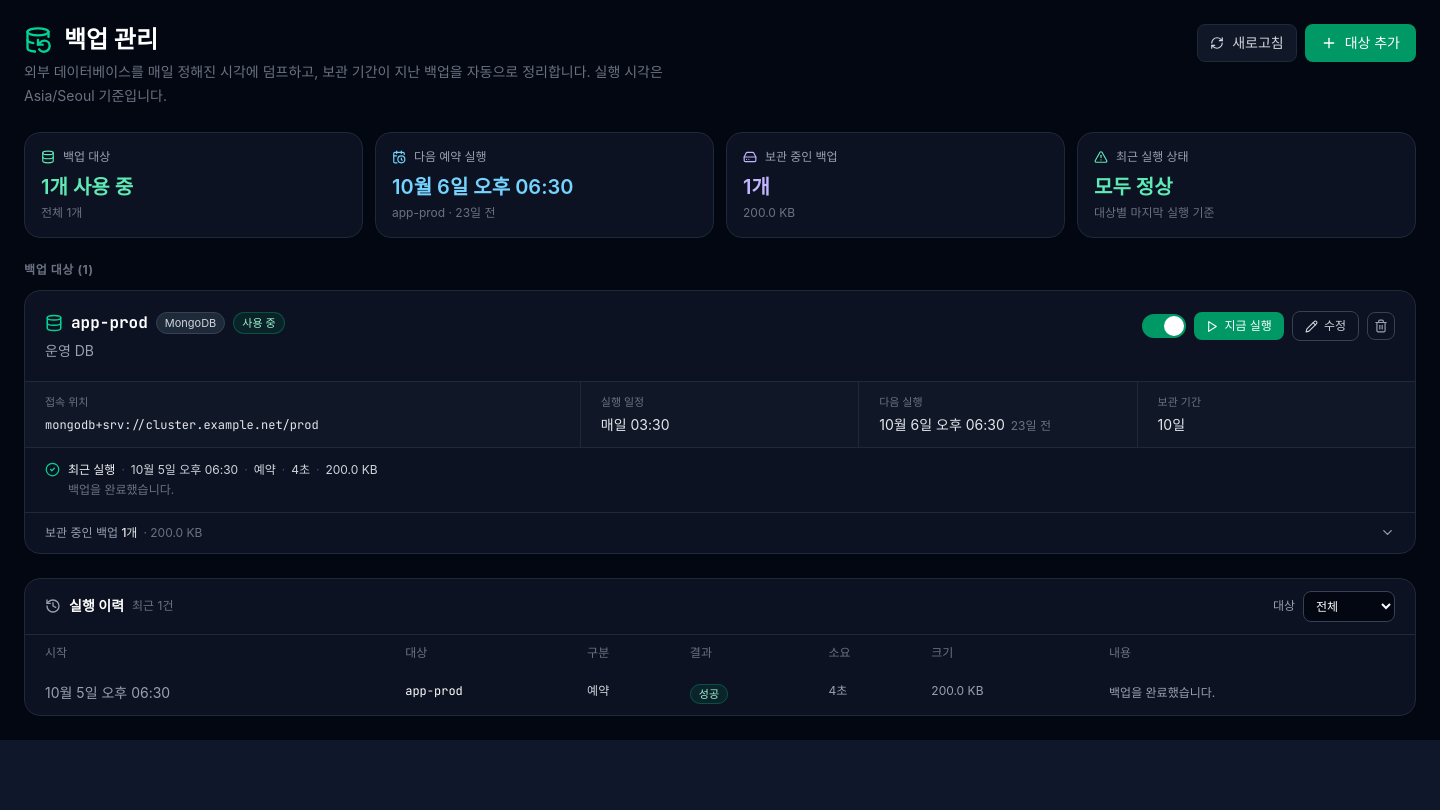
Test case: BackupView › localhost 주소는 서버로 보내지 않고 호스트 별칭을 안내한다
Step 1. Click the button "대상 추가" → (1360,43), box [1305,24,1416,62]
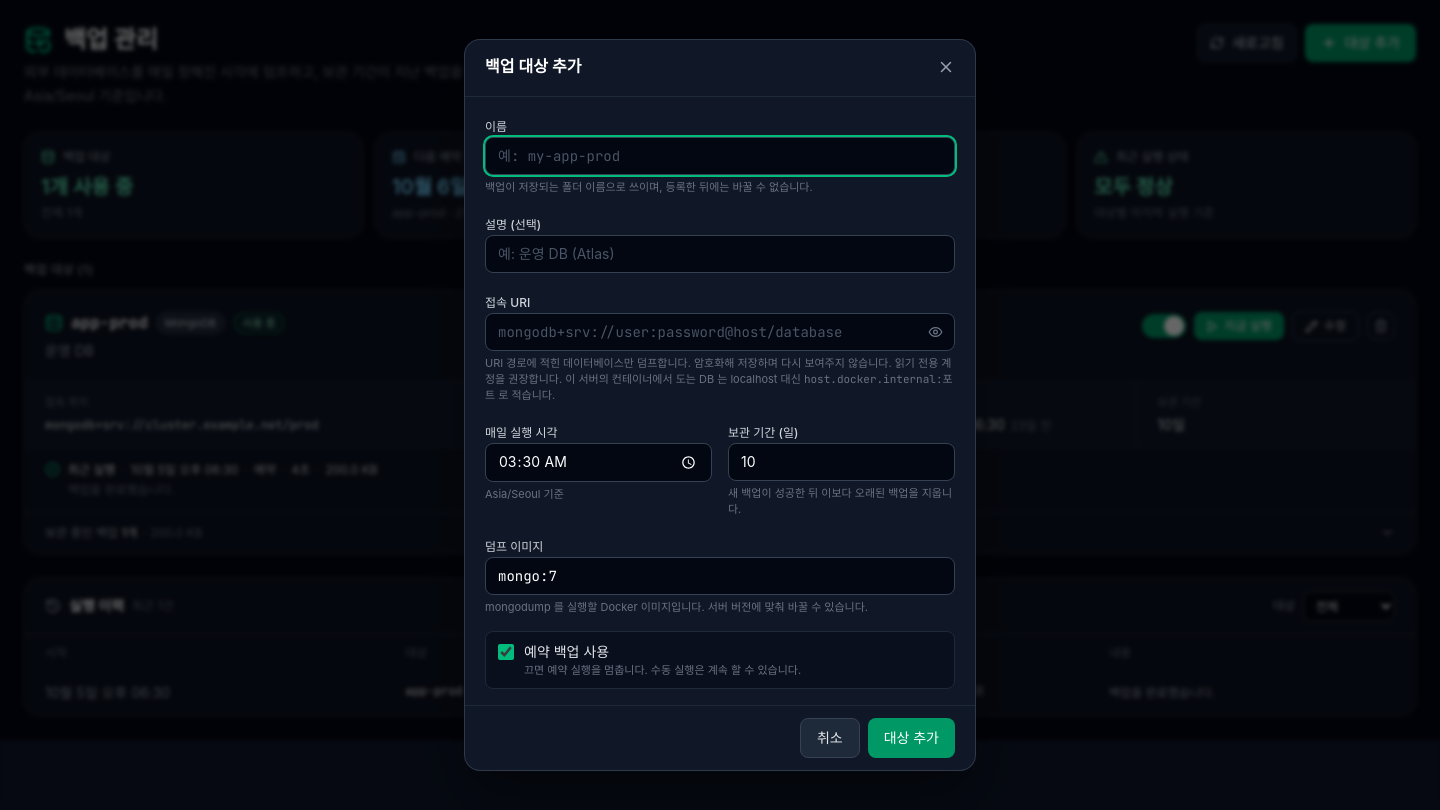
Step 2. Type "blog-prod" into the field labelled "이름" → (720,156), box [485,137,955,175]
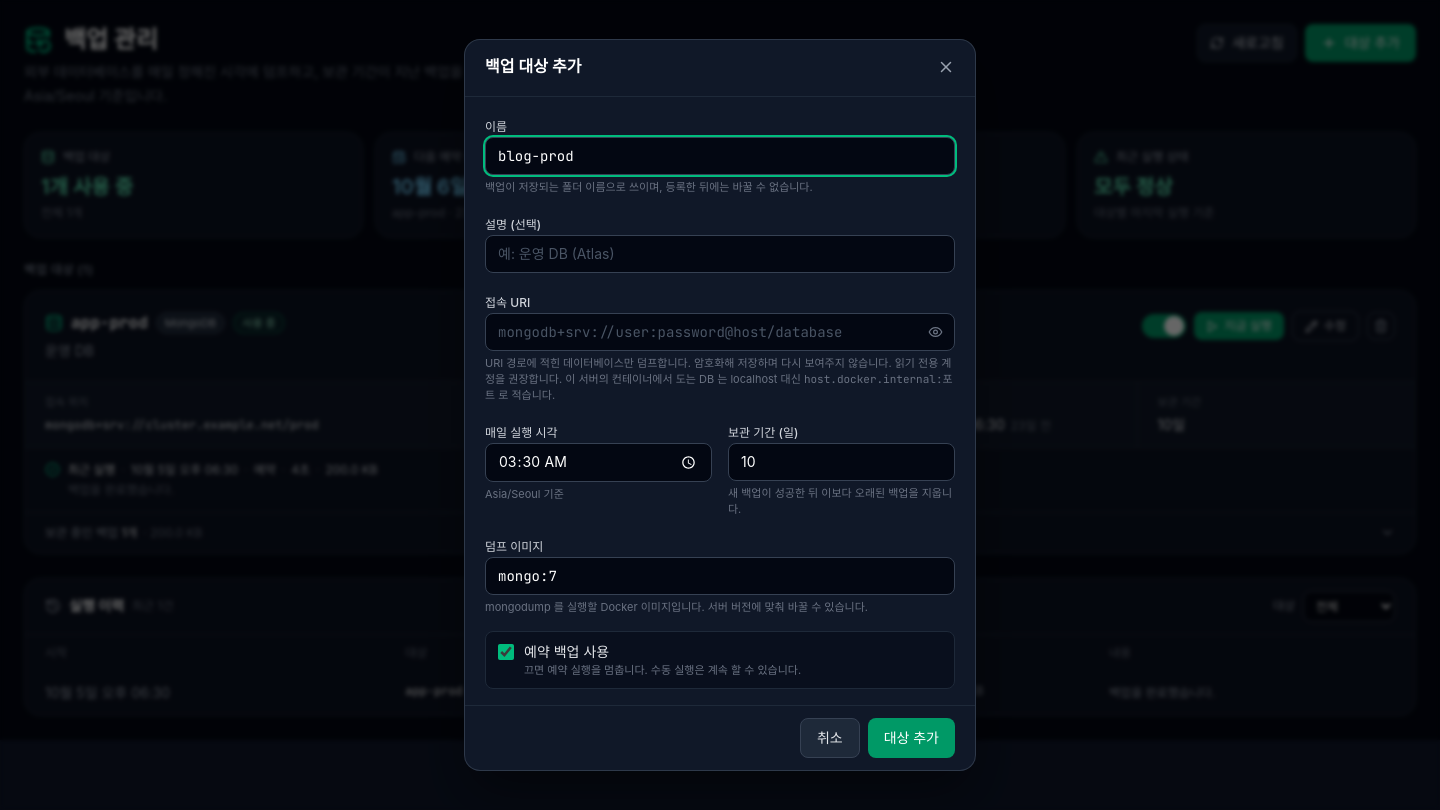
Step 3. Type "mongodb://user:pass@127.0.0.1:27019/blog" into the password field labelled "접속 URI" → (720,332), box [485,313,955,351]
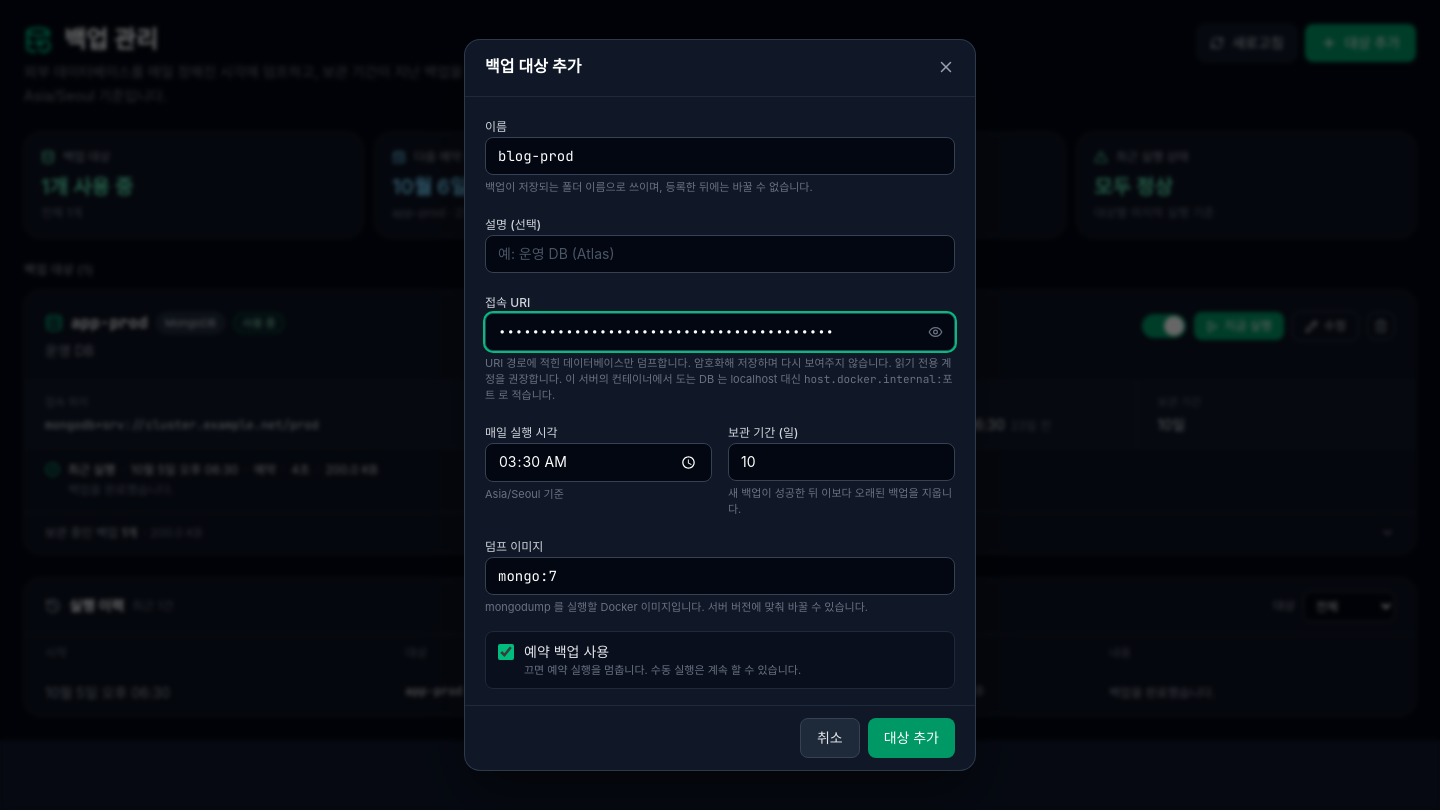
Step 4. Click the button "대상 추가" → (911,738), box [868,718,955,758]
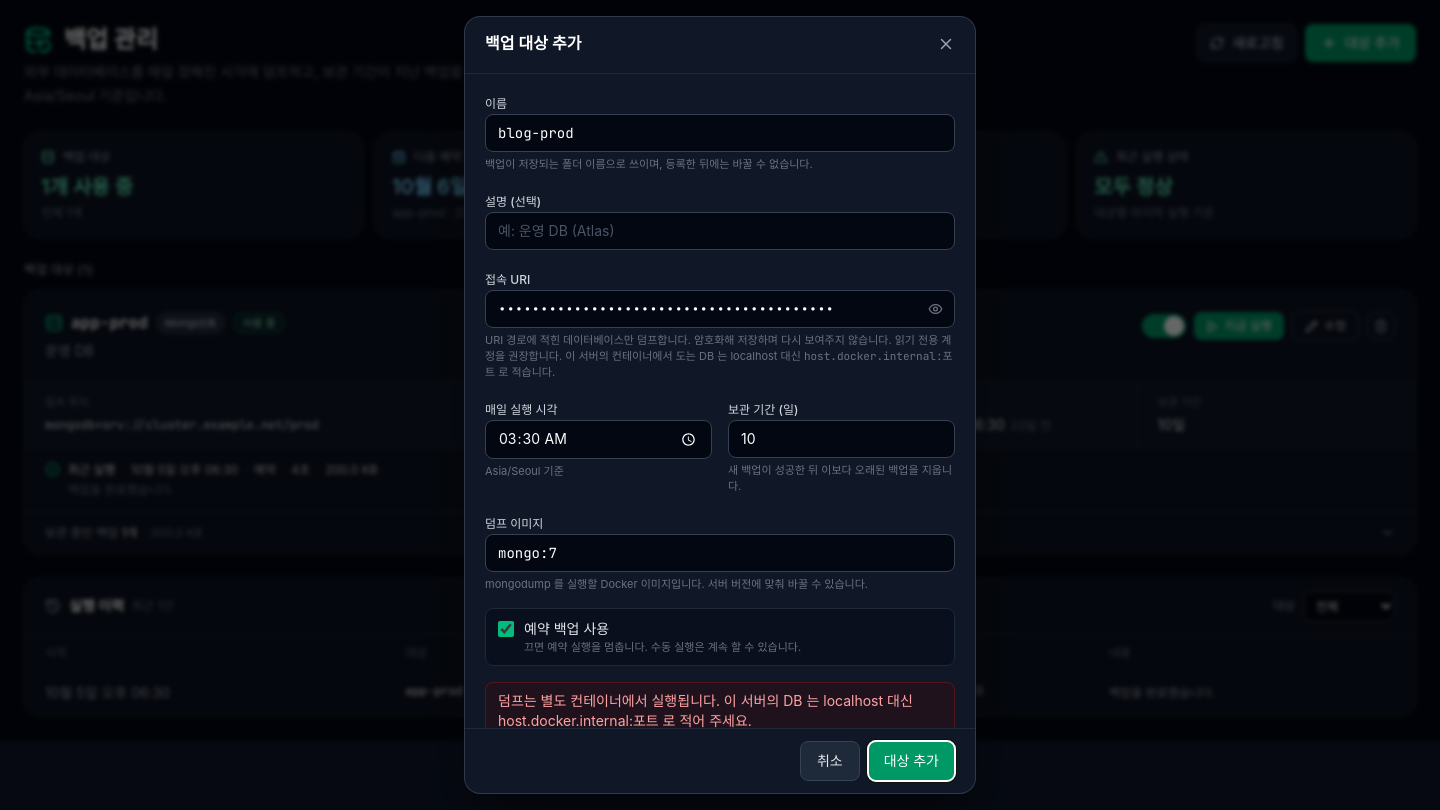
Expected: the message shows "host.docker.internal:포트", [498,692,913,728]
